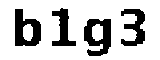1: (46, 6, 79, 51)
3: (116, 5, 146, 51)
b: (10, 7, 44, 50)
g: (82, 16, 114, 60)
